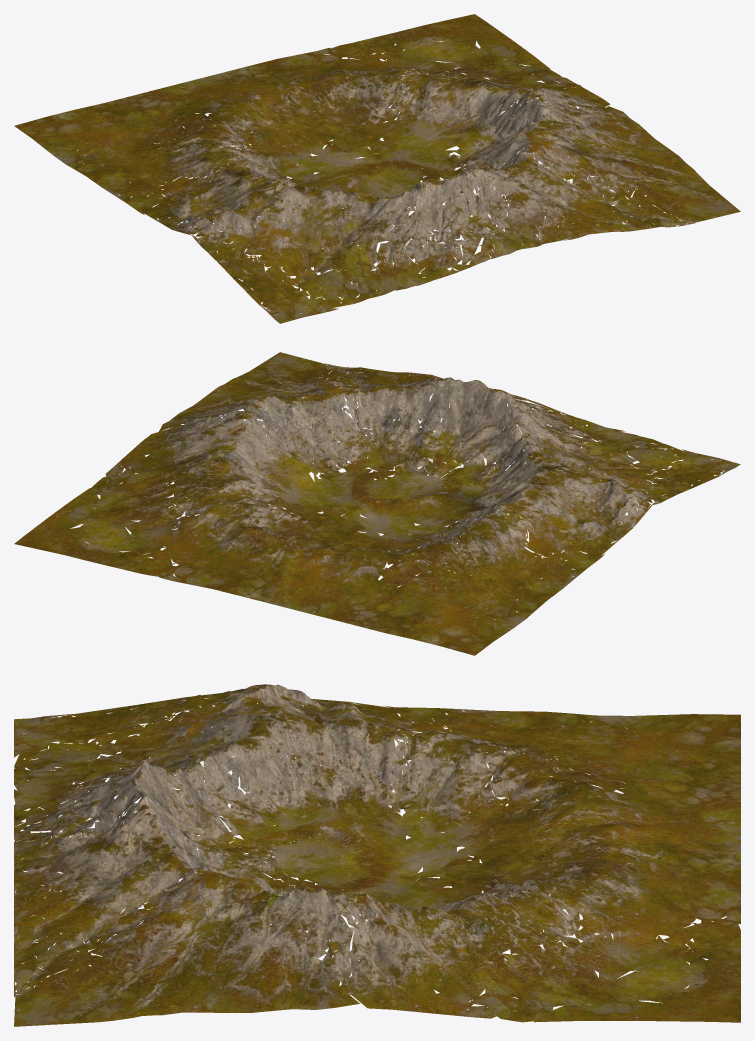
The picture shows the model from 3 angles, top to bottom: view 1: azimuth 30°, elevation 25°; view 2: azimuth 150°, elevation 25°; view 3: azimuth 270°, elevation 25°; orthographic projection. The views are drawn at different scales.
Bounding box in the file's own units: 0.999 × 0.1315 × 0.999.
Materials: 1 (1 with a texture image).
